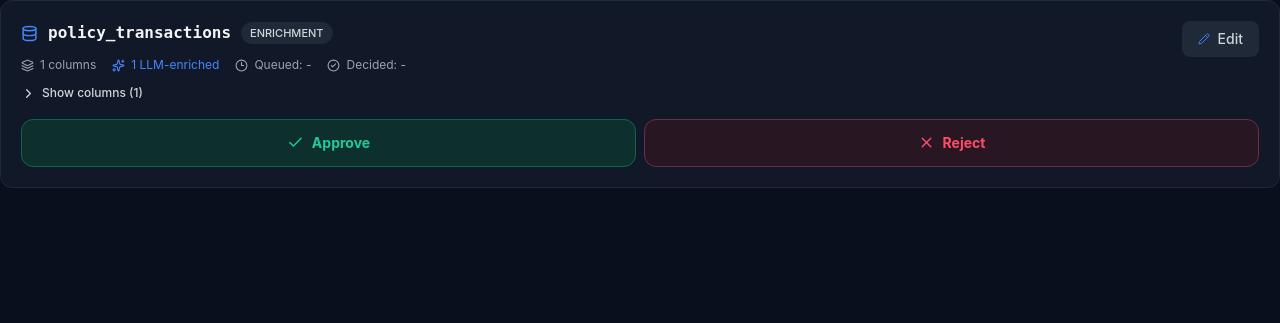
Test: keeps enriched columns collapsed until requested and shows the full review table
Expected: the text "Display Name" is not shown
Click the button "Show columns (1)".
click(82, 93)  # box [21,85,143,101]
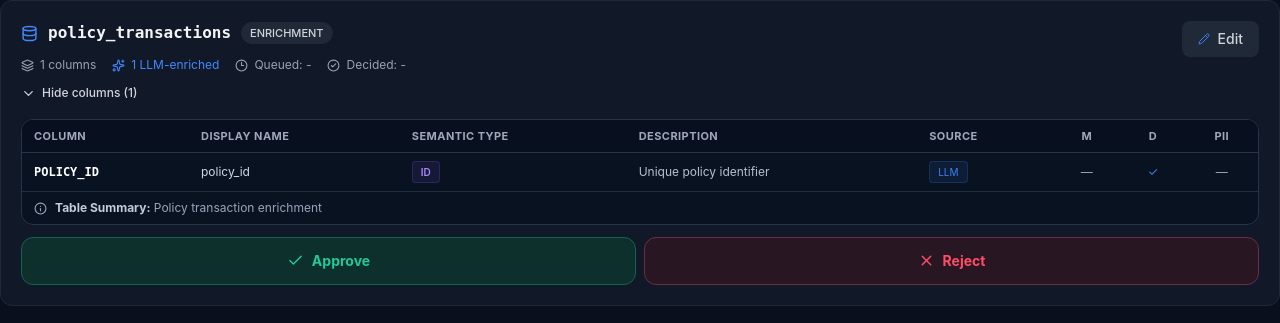
Result: the column heading "Display Name" is shown at [189,120,400,152]
Result: the text "Policy transaction enrichment" is shown at [154,200,322,214]
